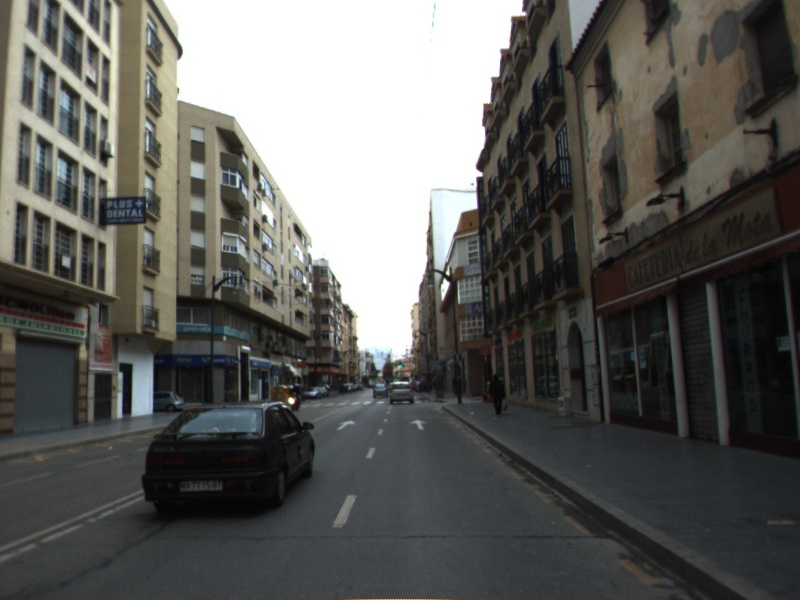STRAIGHT: (334, 418, 358, 432), (408, 417, 430, 432)
